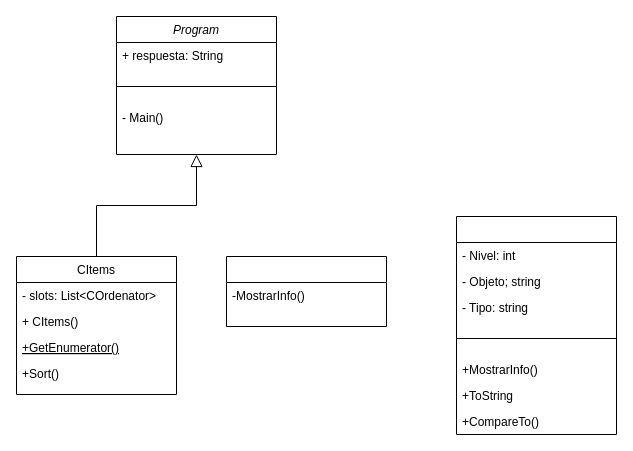
Some shapes in this 633 by 451 pixel diagram are drawn without their labels. The shapes that lost their labels are listed below. From the top down, each one's box as (x1, y1, x2, y2) in pixels, then its label:
(226, 256, 386, 326): IInventario
(456, 216, 616, 434): COrdenator
